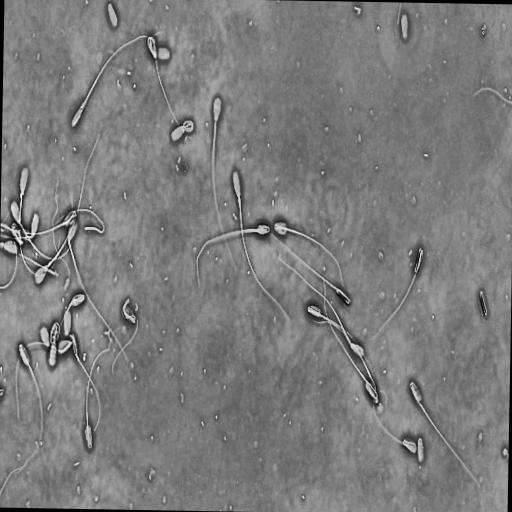coiled-tail: (112, 314, 138, 373), (169, 118, 195, 144), (61, 295, 84, 324), (51, 321, 60, 342), (183, 120, 194, 134), (123, 299, 131, 317), (129, 316, 136, 322)
folded-tail: (411, 380, 482, 488), (147, 36, 190, 138), (196, 226, 270, 284), (15, 342, 71, 418), (87, 327, 122, 448), (275, 224, 343, 286), (308, 305, 369, 363), (383, 248, 423, 327), (19, 345, 43, 473), (373, 390, 417, 453), (24, 210, 77, 235)
loose-head: (400, 10, 411, 43), (62, 307, 73, 339), (107, 1, 119, 29), (39, 325, 51, 350), (155, 44, 171, 62), (416, 434, 425, 466), (478, 290, 488, 317)
loose-tail: (57, 205, 107, 237)
normal: (33, 130, 102, 288), (230, 165, 296, 328), (70, 28, 166, 132), (275, 252, 366, 360), (66, 216, 129, 363), (407, 380, 484, 497), (322, 273, 381, 406), (272, 232, 352, 308), (273, 219, 350, 296), (83, 324, 126, 453), (194, 220, 271, 291), (210, 91, 239, 273), (374, 244, 427, 342), (18, 162, 62, 278), (15, 335, 74, 421), (146, 33, 193, 140), (9, 191, 75, 262), (14, 340, 46, 477), (305, 302, 371, 367), (69, 331, 103, 442), (372, 386, 418, 455), (110, 295, 140, 376), (21, 206, 80, 237), (60, 291, 87, 327), (47, 320, 61, 369)
proximal-droplet: (238, 196, 241, 204)
